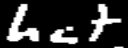hat: (0, 0, 128, 48)
